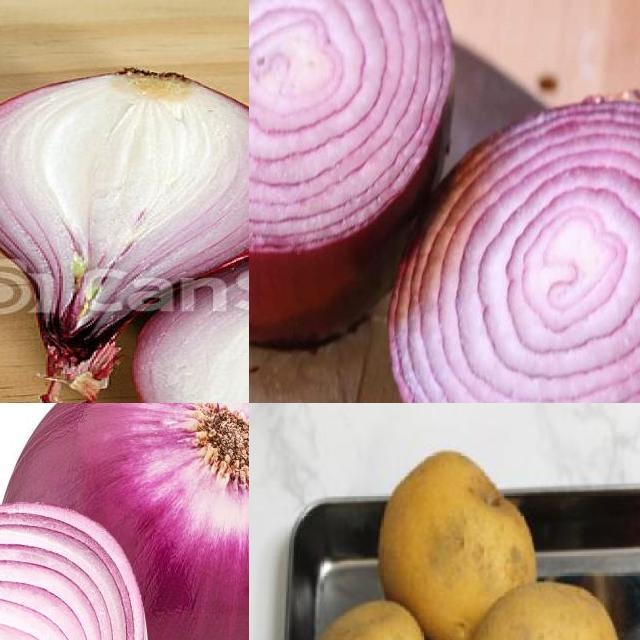onion: (1, 63, 250, 388), (386, 91, 640, 404), (250, 1, 459, 351), (3, 404, 250, 640), (125, 166, 250, 404), (1, 449, 151, 640)
potato: (380, 447, 543, 640), (463, 579, 624, 640), (290, 597, 433, 640)
